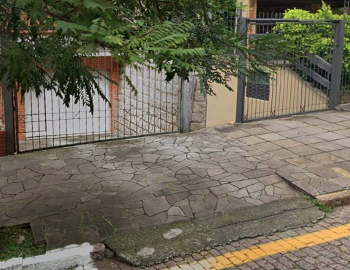vag79: (101, 204, 325, 264)
